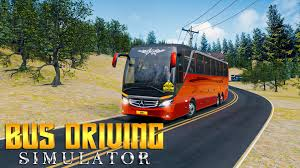bus: (112, 43, 230, 123)
